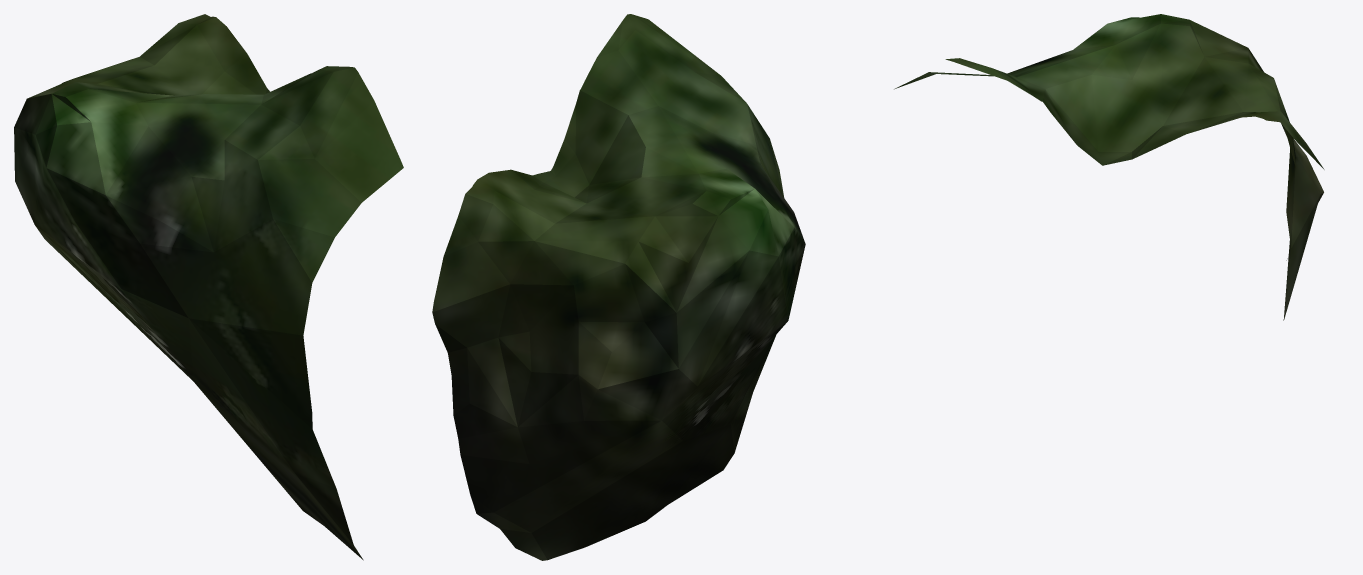
3 views of the same model, side by side, from view 1: azimuth 30°, elevation 25°; view 2: azimuth 150°, elevation 25°; view 3: azimuth 270°, elevation 25° (orthographic). The views are drawn at different scales.
Bounding box in the file's own units: 0.2146 × 0.4095 × 0.3804.
Materials: 1 (1 with a texture image).
